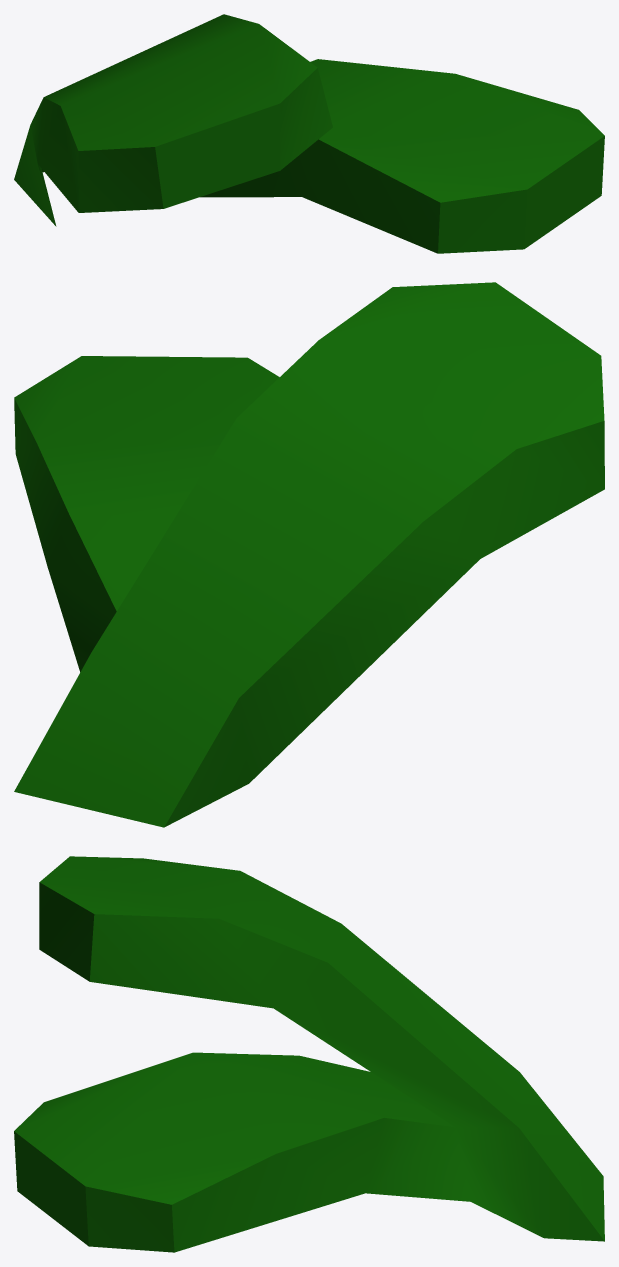
File: SM_Grass_7.FBX
3 views of the same model, one above another, from view 1: azimuth 30°, elevation 25°; view 2: azimuth 150°, elevation 25°; view 3: azimuth 270°, elevation 25° (orthographic). The views are drawn at different scales.
Parts seen in each view (by area): view 1: 7; view 2: 7; view 3: 7.
Boxes of the visible parts, bbox=[...] form: 7: bbox=[14, 14, 604, 253]; 7: bbox=[14, 282, 604, 827]; 7: bbox=[14, 856, 604, 1252].
Bounding box in the file's own units: 9.03 × 4.8 × 8.97.
